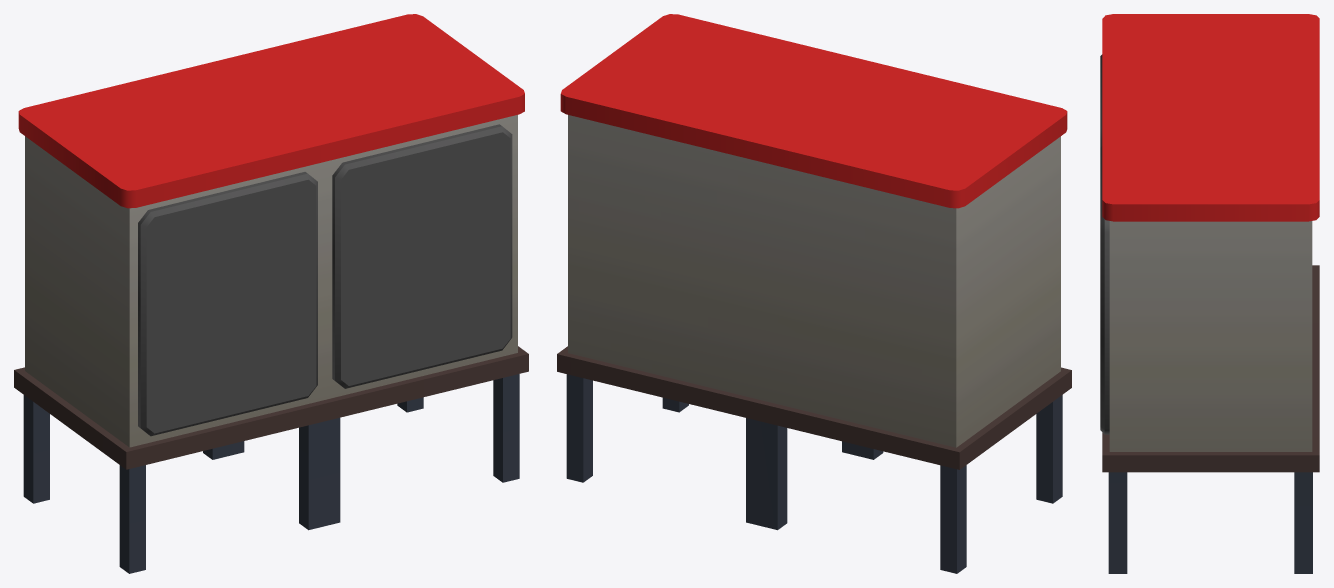
File: ElectricBox_1_A_2.fbx
The picture shows the model from 3 angles, left to right: view 1: azimuth 30°, elevation 25°; view 2: azimuth 150°, elevation 25°; view 3: azimuth 270°, elevation 25°; orthographic projection. The views are drawn at different scales.
Visible parts, largest first — view 1: ElectricBox_1_A_2; view 2: ElectricBox_1_A_2; view 3: ElectricBox_1_A_2.
Boxes of the visible parts, x1,y1,x2,y2 form: ElectricBox_1_A_2: (14,14,528,573); ElectricBox_1_A_2: (557,14,1071,573); ElectricBox_1_A_2: (1100,14,1319,573).
Bounding box in the file's own units: 251 × 229 × 122.
